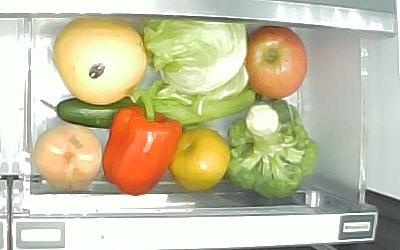apple: (244, 26, 310, 99)
broccoli: (226, 100, 319, 198)
cucumber: (40, 88, 255, 128)
grapefruit: (50, 18, 145, 106)
lettuce: (143, 18, 248, 101)
paprika: (102, 100, 183, 196)
peach: (35, 125, 101, 190)
persimmon: (170, 128, 230, 194)
